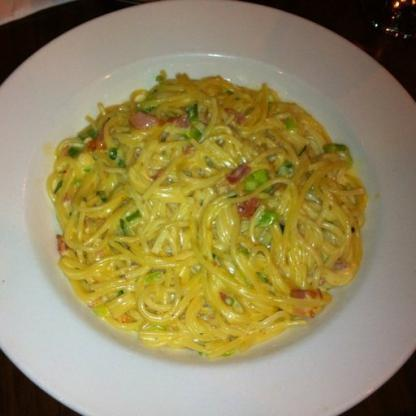pasta: (47, 74, 355, 353)
